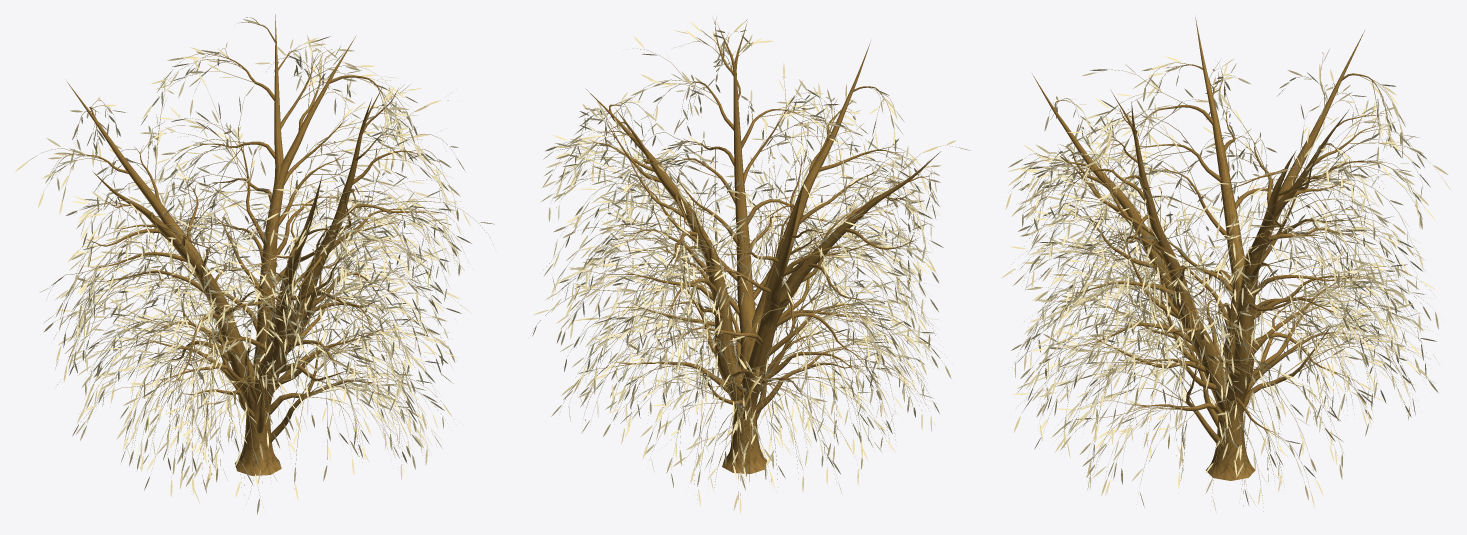
Rendered from tree_yanagi.glb.
3 renders of one model, left to right at view 1: azimuth 30°, elevation 25°; view 2: azimuth 150°, elevation 25°; view 3: azimuth 270°, elevation 25°, orthographic. The views are drawn at different scales.
Parts seen in each view (by area): view 1: Leaves, Branches2, Trunk, Branches1; view 2: Leaves, Branches2, Trunk, Branches1; view 3: Leaves, Branches2, Trunk, Branches1.
Boxes of the visible parts, box(x1,y1,x2,y2) form: Leaves: box(15, 19, 494, 514); Branches2: box(40, 24, 493, 495); Trunk: box(67, 14, 382, 475); Branches1: box(66, 17, 432, 442); Leaves: box(532, 20, 969, 513); Branches2: box(534, 31, 956, 499); Trunk: box(586, 22, 940, 473); Branches1: box(587, 18, 931, 448); Leaves: box(1001, 49, 1451, 513); Branches2: box(1011, 54, 1441, 511); Trunk: box(1032, 17, 1364, 480); Branches1: box(1035, 64, 1387, 448).
Bounding box in the file's own units: 7.63 × 7.5 × 7.5.
Materials: 3 (1 with a texture image).
